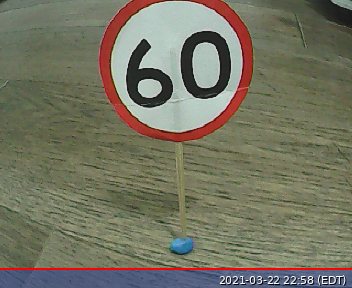Speed Limit 60: (97, 1, 255, 141)
